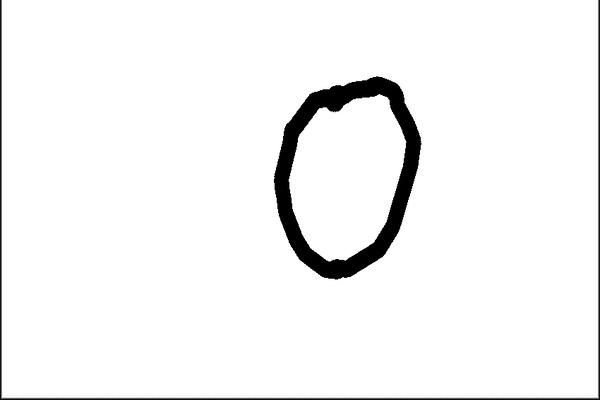O: (257, 65, 430, 287)
